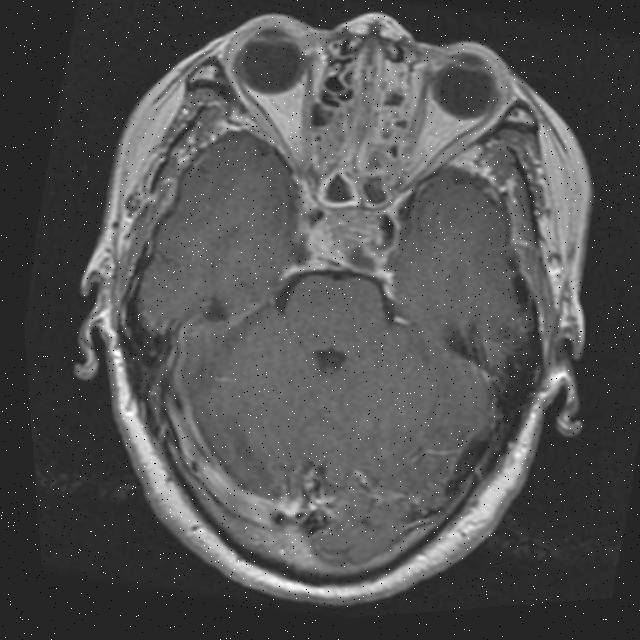Pituitary: (298, 198, 394, 278)
